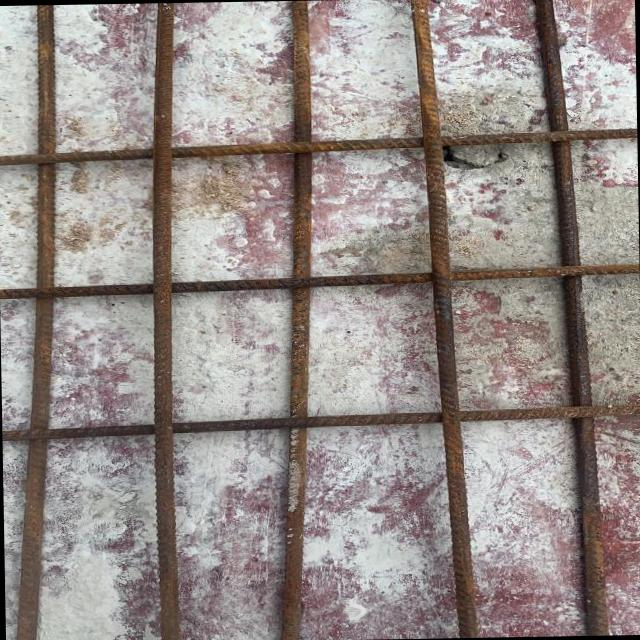ribbed bar: (537, 0, 612, 635), (409, 0, 481, 637), (2, 4, 69, 640), (266, 0, 326, 640), (148, 2, 187, 640), (1, 262, 640, 300), (0, 127, 637, 165), (3, 403, 640, 440)
